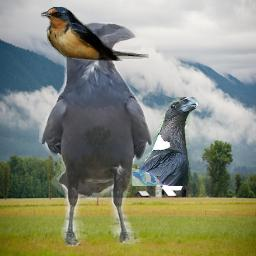Crow: (39, 21, 155, 247), (132, 97, 199, 186)
Swallow: (41, 7, 150, 61)
